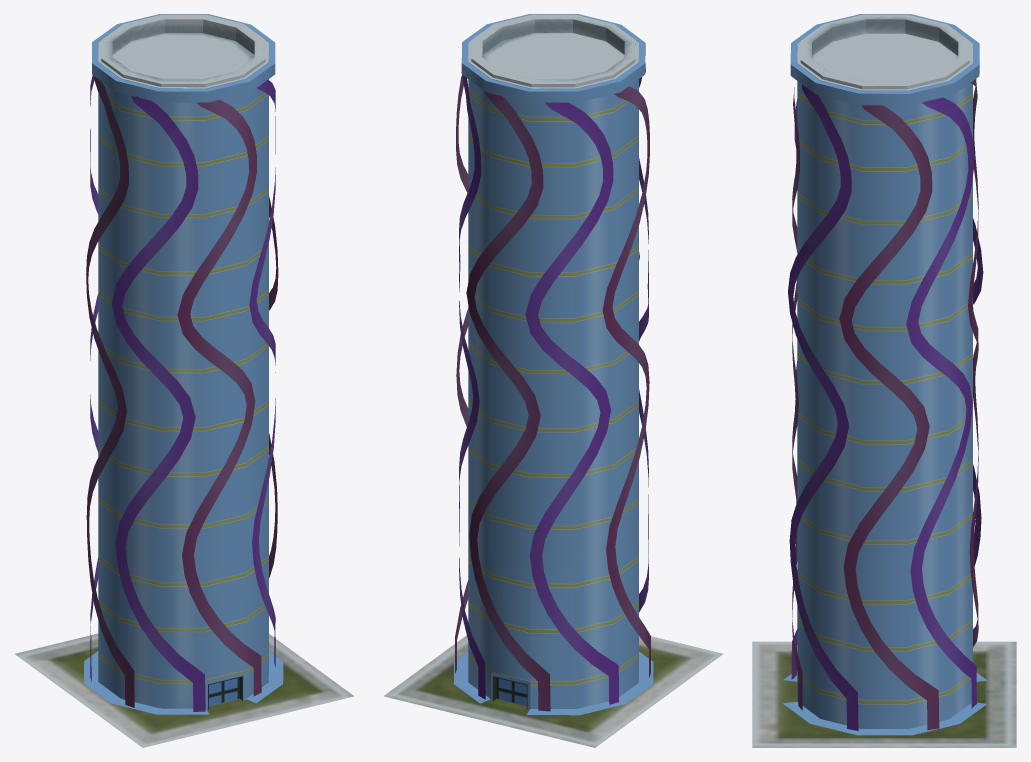
The model's file is 05_lou_init.FBX.
The picture shows the model from 3 angles, left to right: view 1: azimuth 30°, elevation 25°; view 2: azimuth 150°, elevation 25°; view 3: azimuth 270°, elevation 25°; orthographic projection. The views are drawn at different scales.
Visible parts, largest first — view 1: 对象001; view 2: 对象001; view 3: 对象001.
Boxes of the visible parts, left/top/right/bottom form: 对象001: left=15, top=14, right=353, bottom=747; 对象001: left=384, top=14, right=723, bottom=747; 对象001: left=752, top=14, right=1016, bottom=747.
Size of the model in its own units: 5578 by 15756 by 5865.
